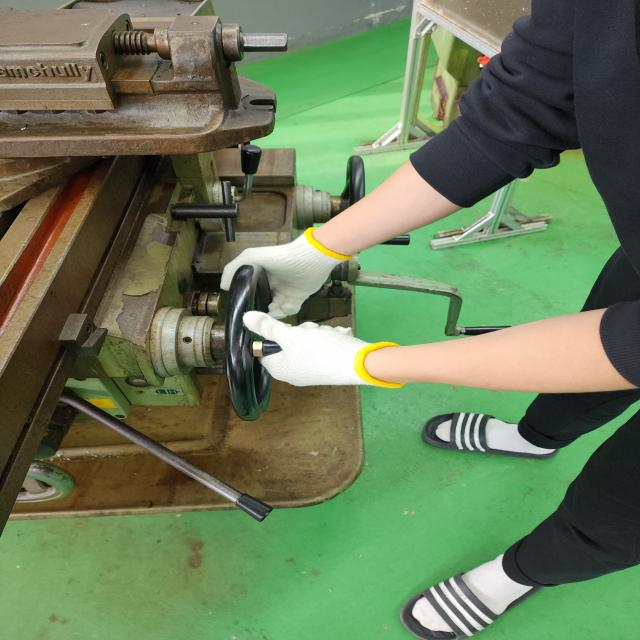Boots: (222, 316, 408, 391), (215, 220, 357, 312)
